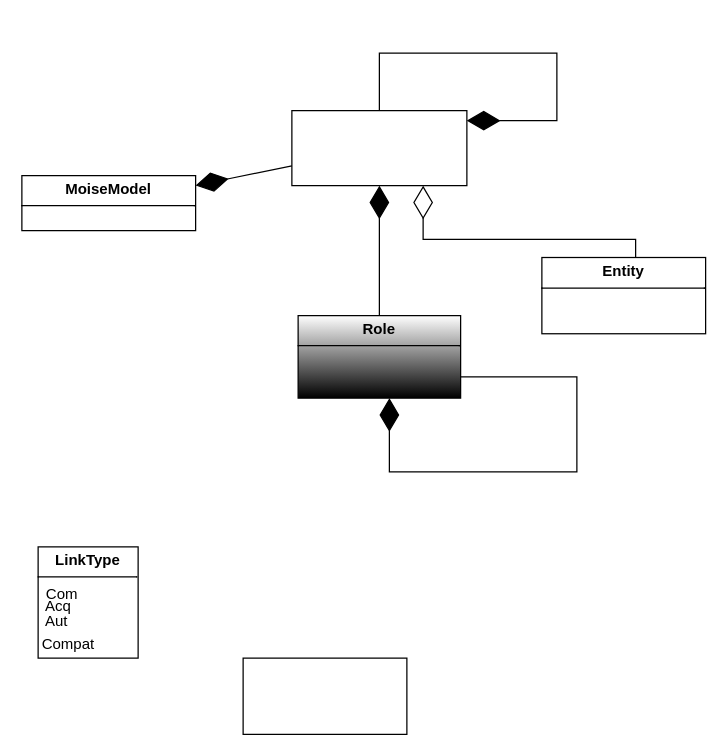
Some shapes in this 728 by 756 pixel diagram are drawn without their labels. Here are the shapes that lost their labels. From the top down, the box of each, then its label:
(291, 109, 467, 186): Group + type: GoalType
(242, 657, 407, 734): Link + linkType
